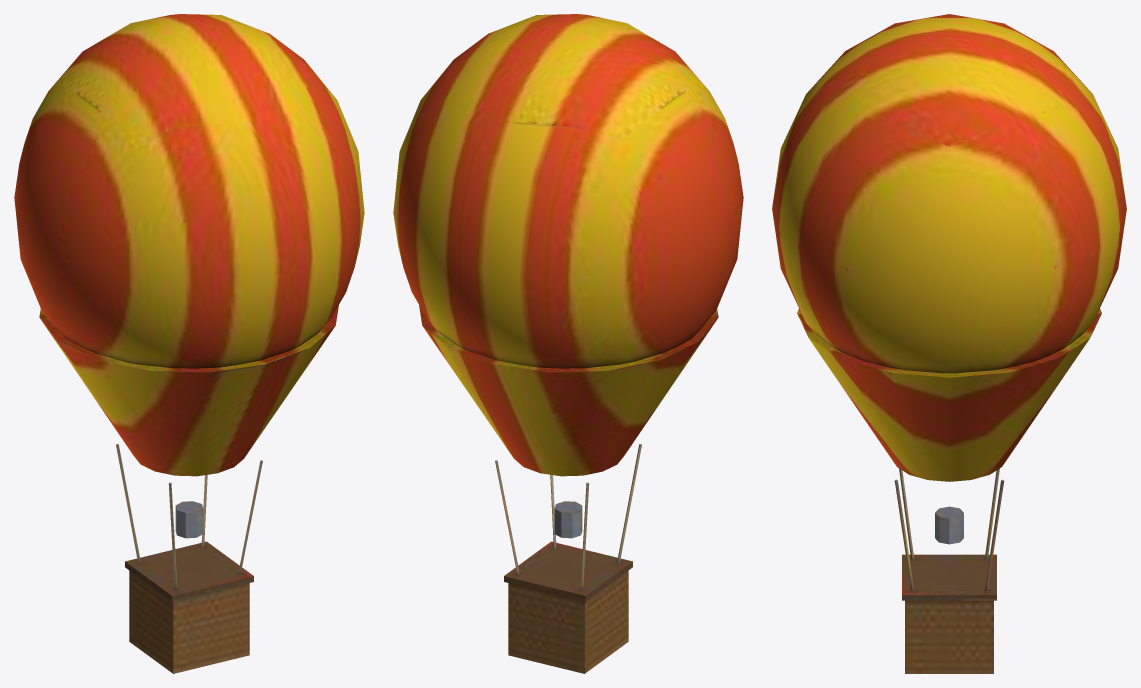
Rendered from globo_aire.glb.
The picture shows the model from 3 angles, left to right: view 1: azimuth 30°, elevation 25°; view 2: azimuth 150°, elevation 25°; view 3: azimuth 270°, elevation 25°; orthographic projection.
Parts seen in each view (by area): view 1: globo_aire; view 2: globo_aire; view 3: globo_aire.
Part boxes in pixels (left/top/right/bottom): globo_aire: left=14, top=14, right=364, bottom=673; globo_aire: left=393, top=14, right=743, bottom=673; globo_aire: left=772, top=14, right=1126, bottom=673.
Bounding box in the file's own units: 4.4 × 8.57 × 4.4.
1 material, 1 textured.
